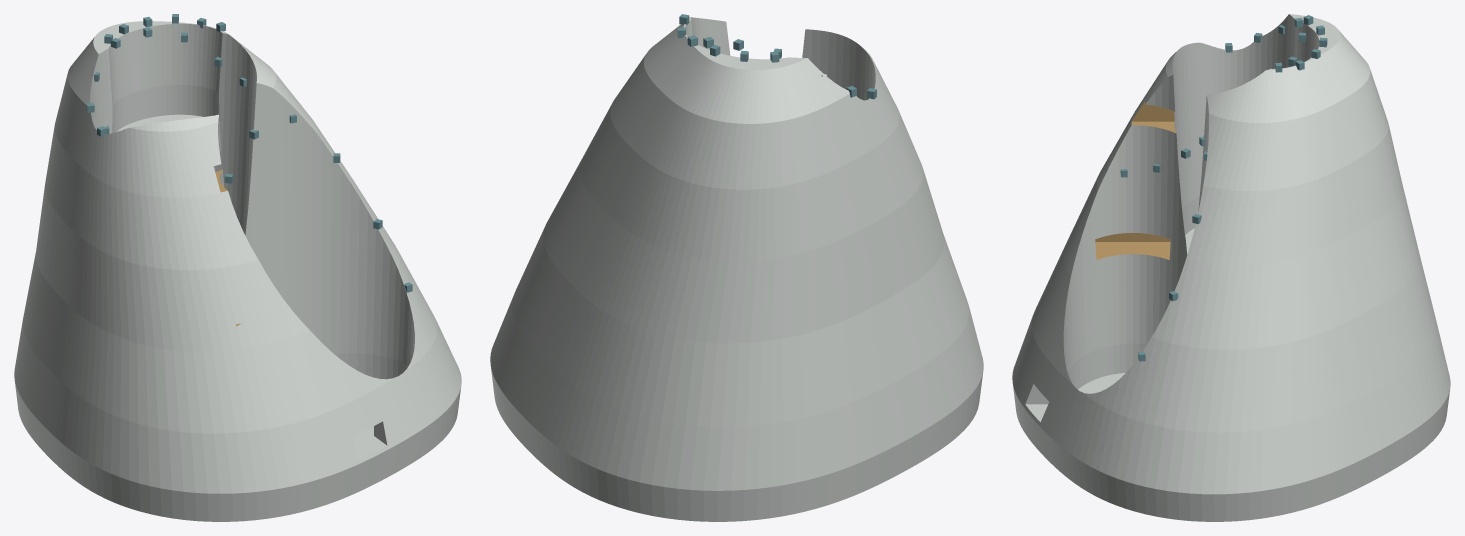
3 renders of one model, left to right at view 1: azimuth 30°, elevation 25°; view 2: azimuth 150°, elevation 25°; view 3: azimuth 270°, elevation 25°, orthographic. The views are drawn at different scales.
Parts seen in each view (by area): view 1: P2_SINGLE_SHARED_CIVIC_MASS; view 2: P2_SINGLE_SHARED_CIVIC_MASS; view 3: P2_SINGLE_SHARED_CIVIC_MASS.
Boxes of the visible parts, x1,y1,x2,y2 form: P2_SINGLE_SHARED_CIVIC_MASS: [14, 21, 461, 521]; P2_SINGLE_SHARED_CIVIC_MASS: [490, 17, 983, 521]; P2_SINGLE_SHARED_CIVIC_MASS: [1012, 14, 1450, 521].
Size of the model in its own units: 6035 by 5700 by 6117.
